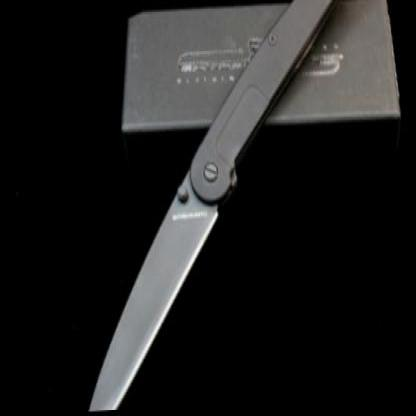knife: (15, 157, 257, 412)
